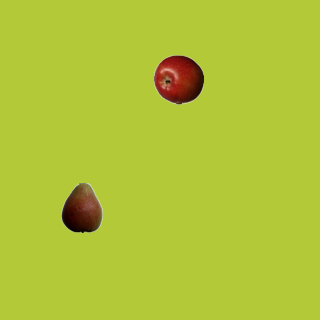Apple Braeburn: (153, 54, 203, 104)
Pear Forelle: (56, 182, 106, 232)
